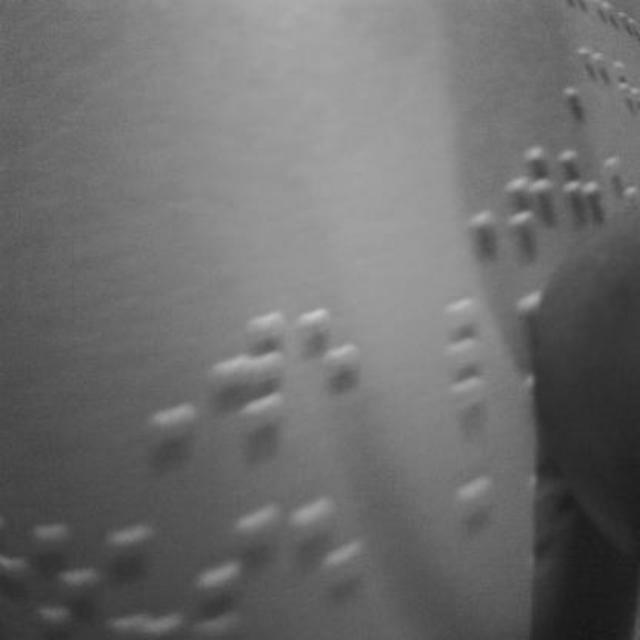braiile: (296, 484, 364, 640), (213, 307, 285, 437), (28, 506, 96, 640), (296, 304, 360, 434), (465, 289, 535, 405)
